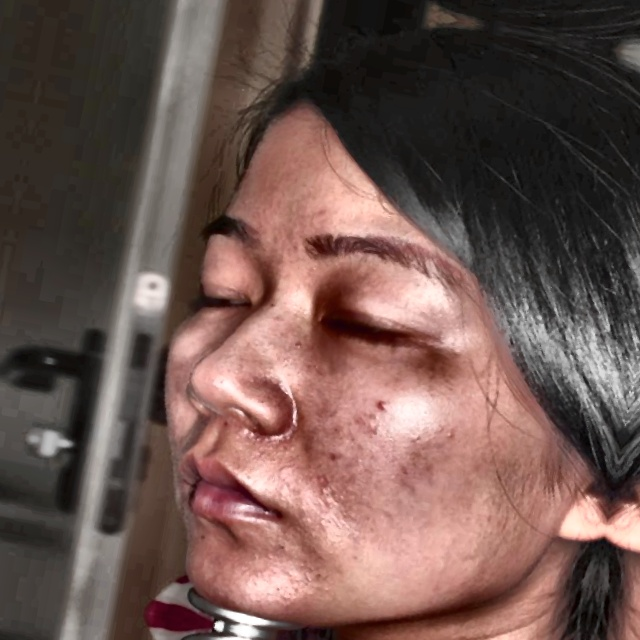comedone: (363, 386, 394, 423)
